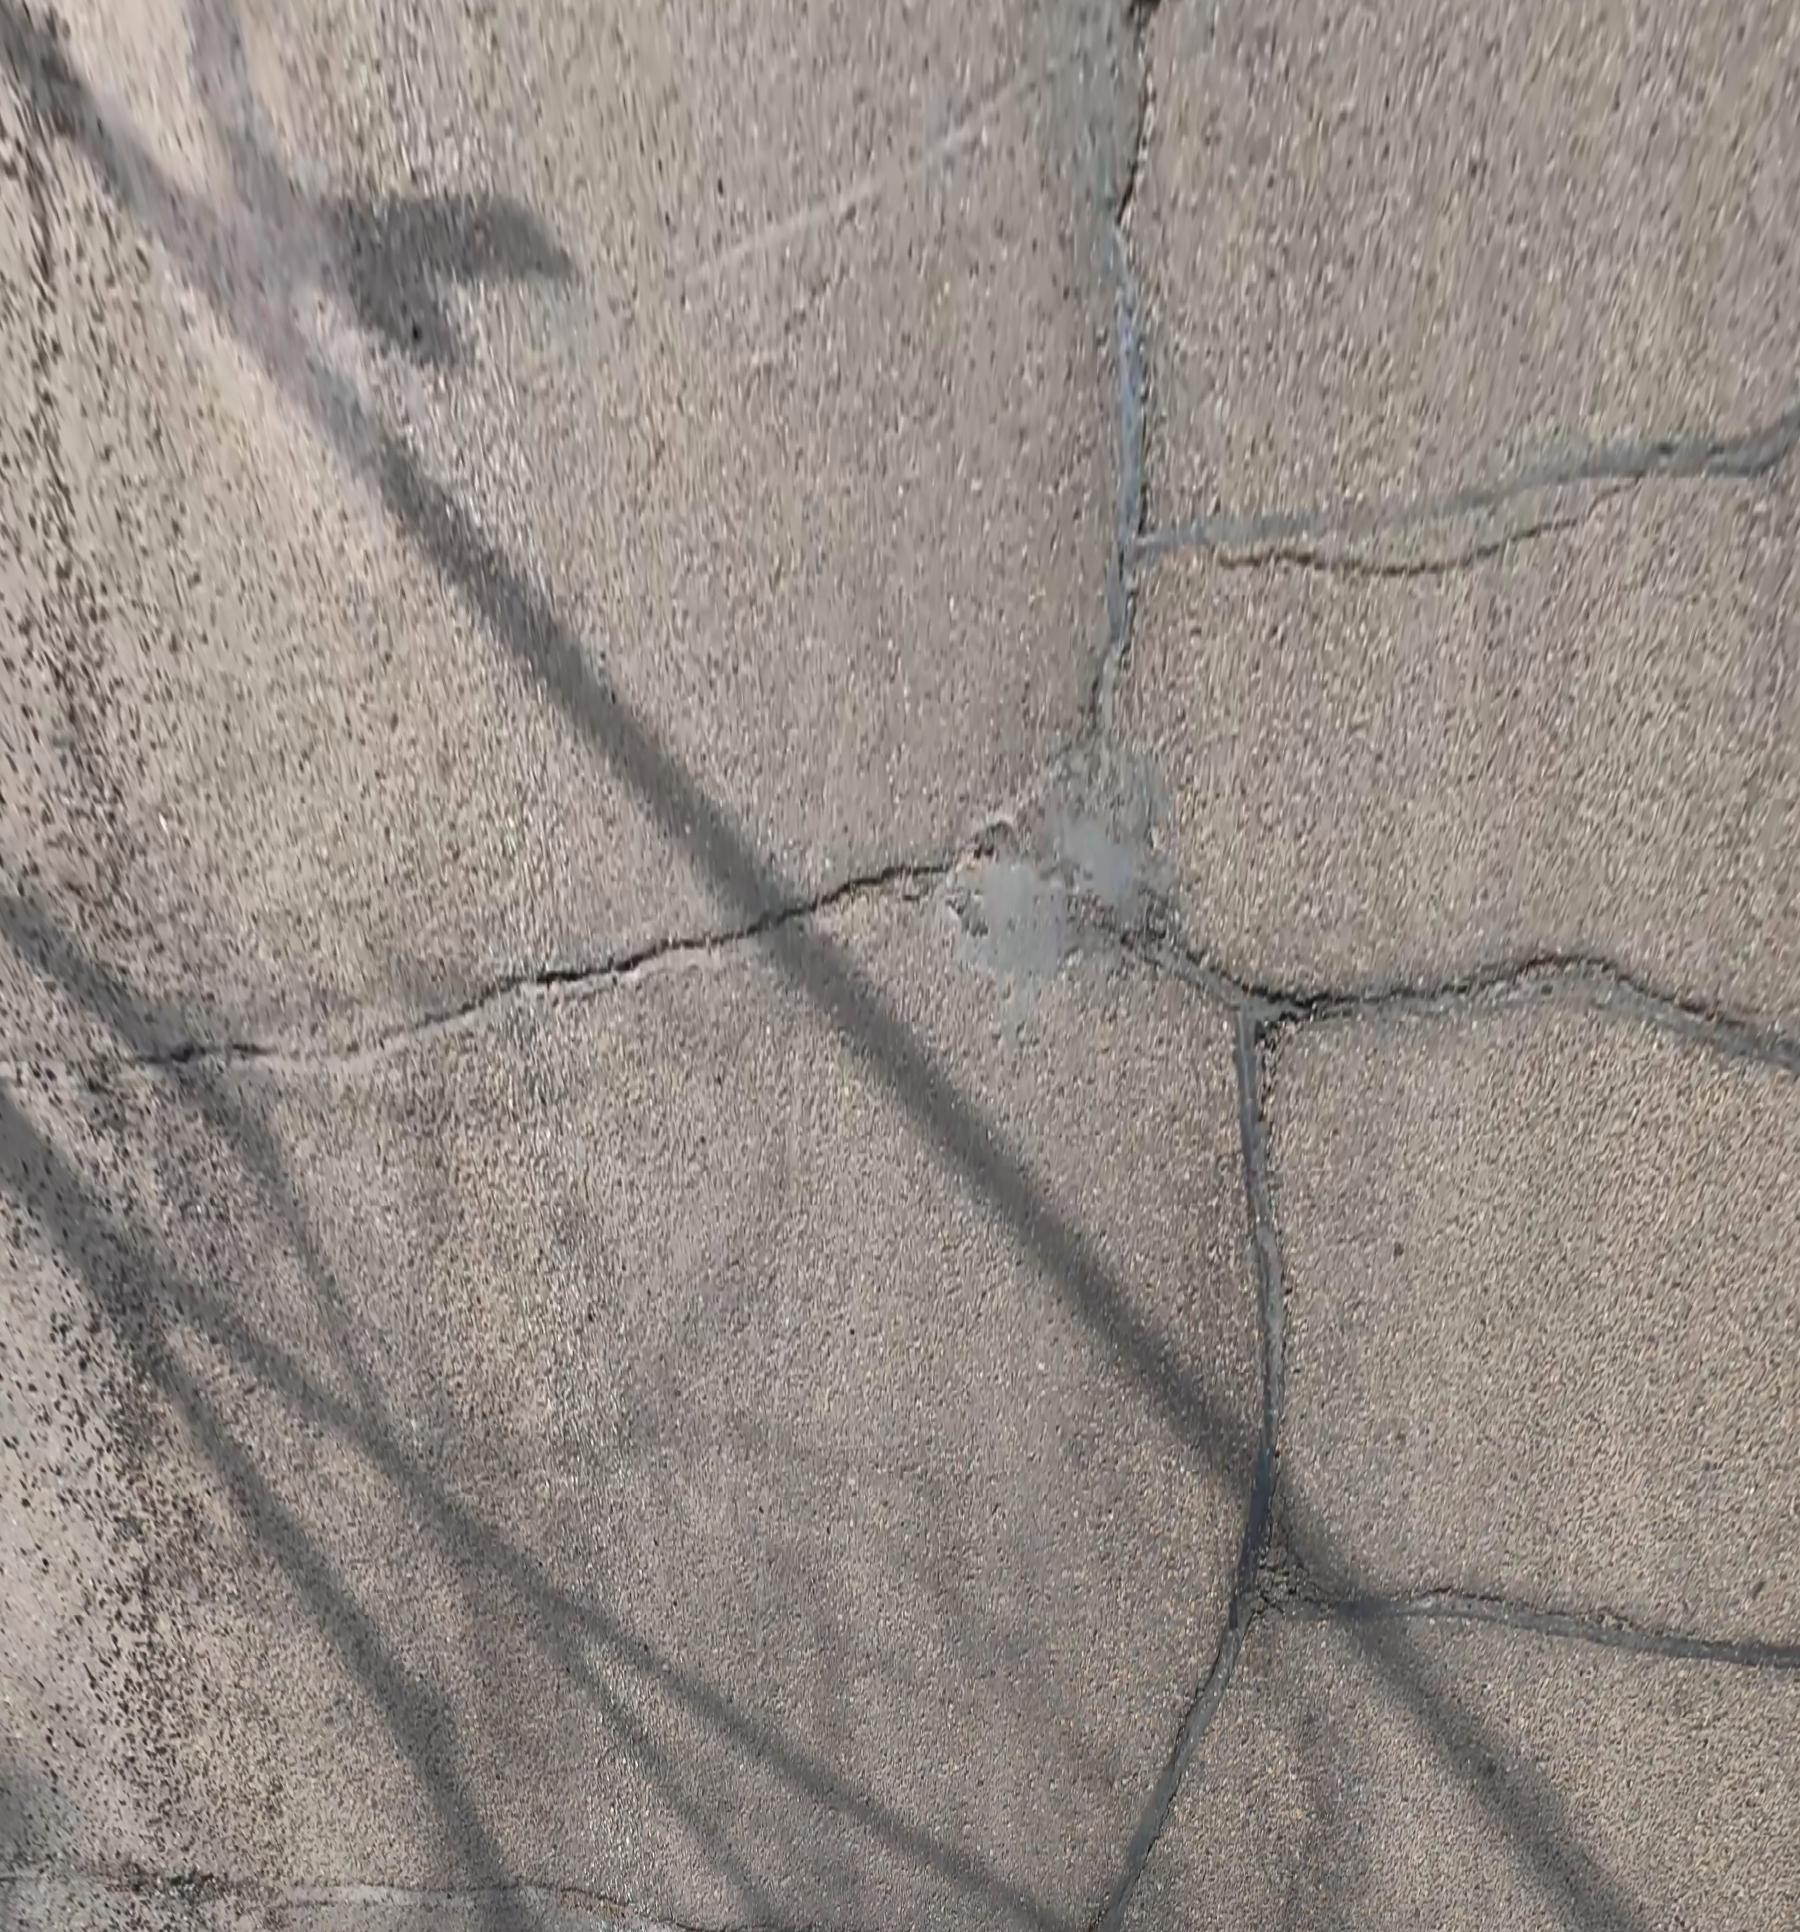pothole_patch_poor: (941, 736, 1176, 983)
